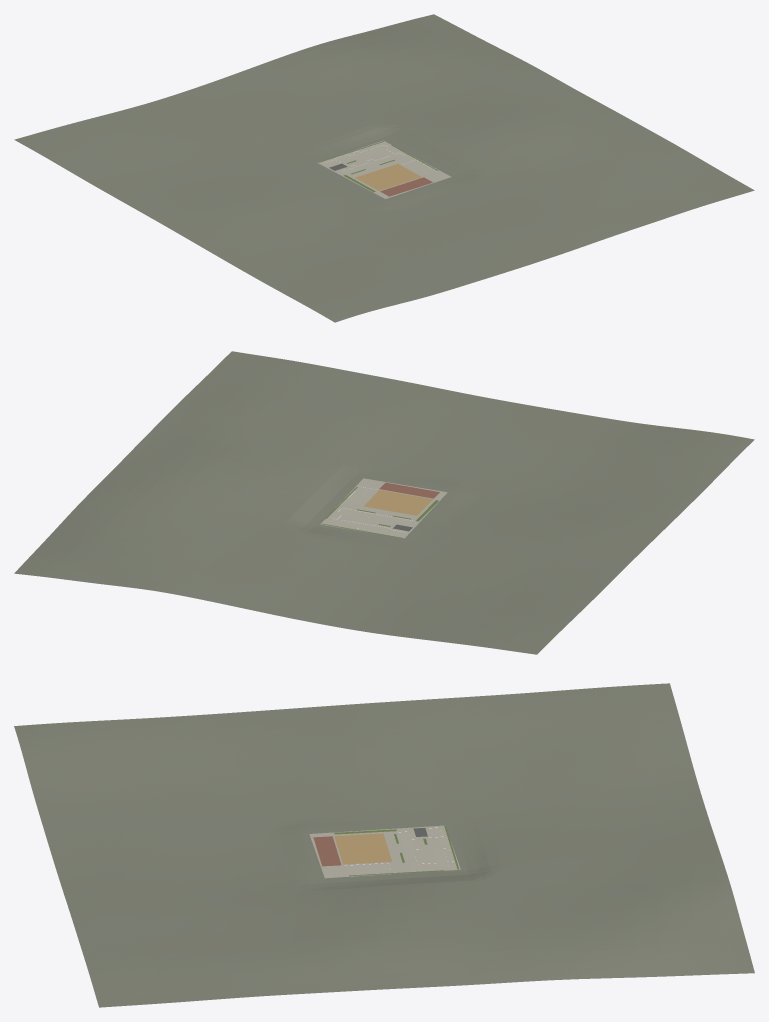
The picture shows the model from 3 angles, top to bottom: view 1: azimuth 30°, elevation 25°; view 2: azimuth 150°, elevation 25°; view 3: azimuth 270°, elevation 25°; orthographic projection. The views are drawn at different scales.
Visible parts, largest first — view 1: ground_context-estimated, surface_school-paved-walk, surface_sports-field; view 2: ground_context-estimated, surface_school-paved-walk, surface_sports-field; view 3: ground_context-estimated, surface_school-paved-walk, surface_sports-field.
Part boxes in pixels (x1=…): ground_context-estimated: x1=14, y1=14, x2=754, y2=322; surface_school-paved-walk: x1=317, y1=140, x2=451, y2=198; surface_sports-field: x1=355, y1=164, x2=421, y2=190; ground_context-estimated: x1=14, y1=351, x2=754, y2=654; surface_school-paved-walk: x1=320, y1=478, x2=447, y2=538; surface_sports-field: x1=363, y1=490, x2=432, y2=515; ground_context-estimated: x1=14, y1=683, x2=754, y2=1007; surface_school-paved-walk: x1=309, y1=825, x2=460, y2=878; surface_sports-field: x1=334, y1=833, x2=391, y2=864.
Bounding box in the file's own units: 807 × 15.82 × 807.
6 materials, 6 textured.
